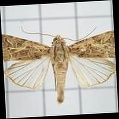Spodoptera litura: (4, 23, 116, 104)
